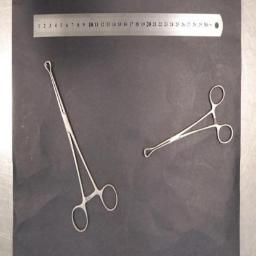Babcock Tissue Forceps: (144, 86, 232, 158)
